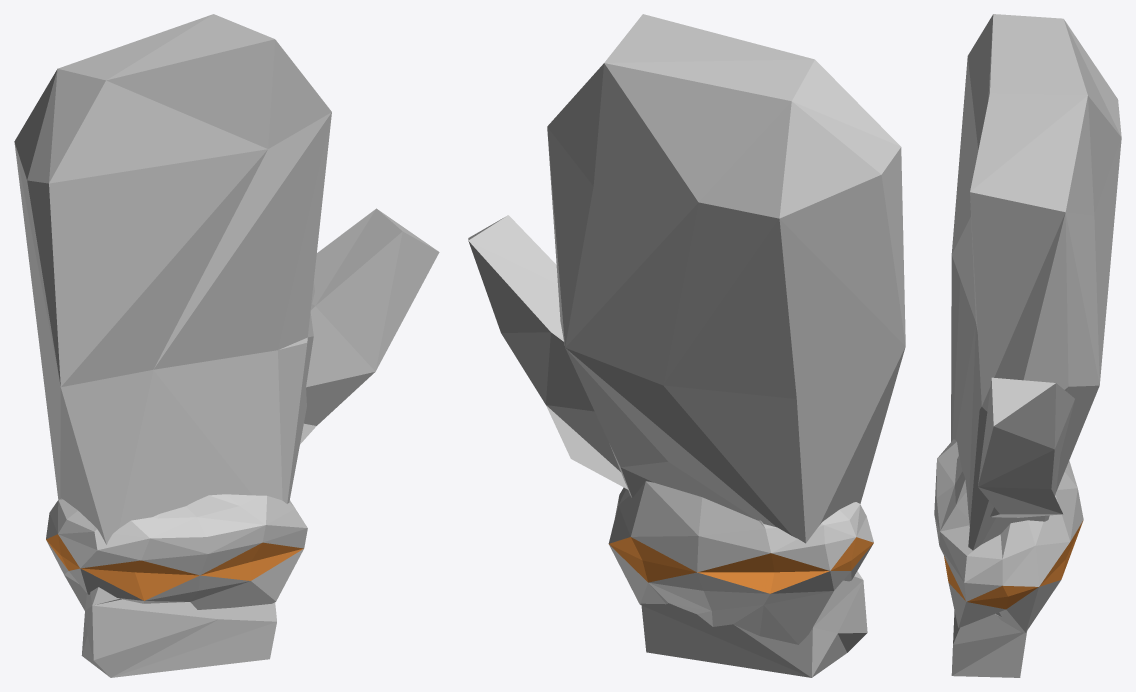
The picture shows the model from 3 angles, left to right: view 1: azimuth 30°, elevation 25°; view 2: azimuth 150°, elevation 25°; view 3: azimuth 270°, elevation 25°; orthographic projection. The views are drawn at different scales.
Parts seen in each view (by area): view 1: group463431455, group415508228, group399501026, group263566138; view 2: group463431455, group415508228, group399501026, group263566138; view 3: group463431455, group415508228, group399501026, group263566138.
Boxes of the visible parts, x1,y1,x2,y2 form: group463431455: (14, 14, 331, 544); group415508228: (46, 494, 307, 610); group399501026: (300, 208, 439, 444); group263566138: (81, 587, 276, 677); group463431455: (547, 14, 905, 543); group415508228: (608, 481, 873, 644); group399501026: (468, 215, 628, 489); group263566138: (641, 571, 867, 677); group463431455: (951, 14, 1121, 550); group415508228: (934, 439, 1083, 633); group399501026: (978, 377, 1074, 517); group263566138: (951, 610, 1026, 677).
Bounding box in the file's own units: 0.2845 × 0.4025 × 0.115.
